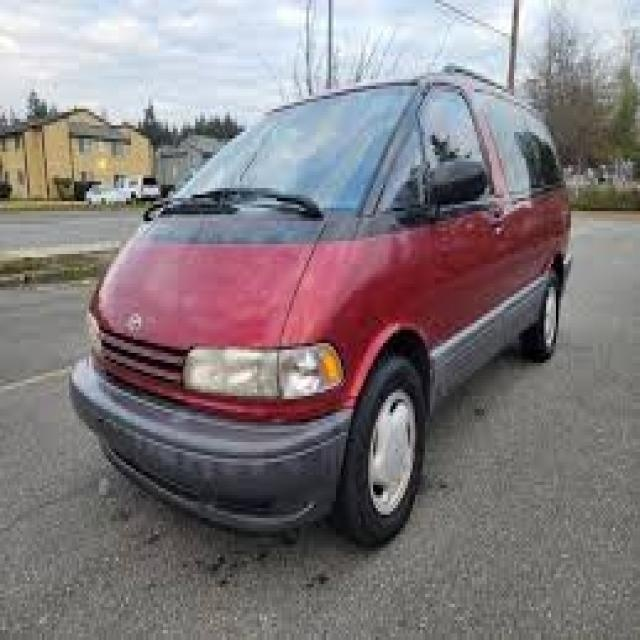Van: (67, 73, 580, 551)
